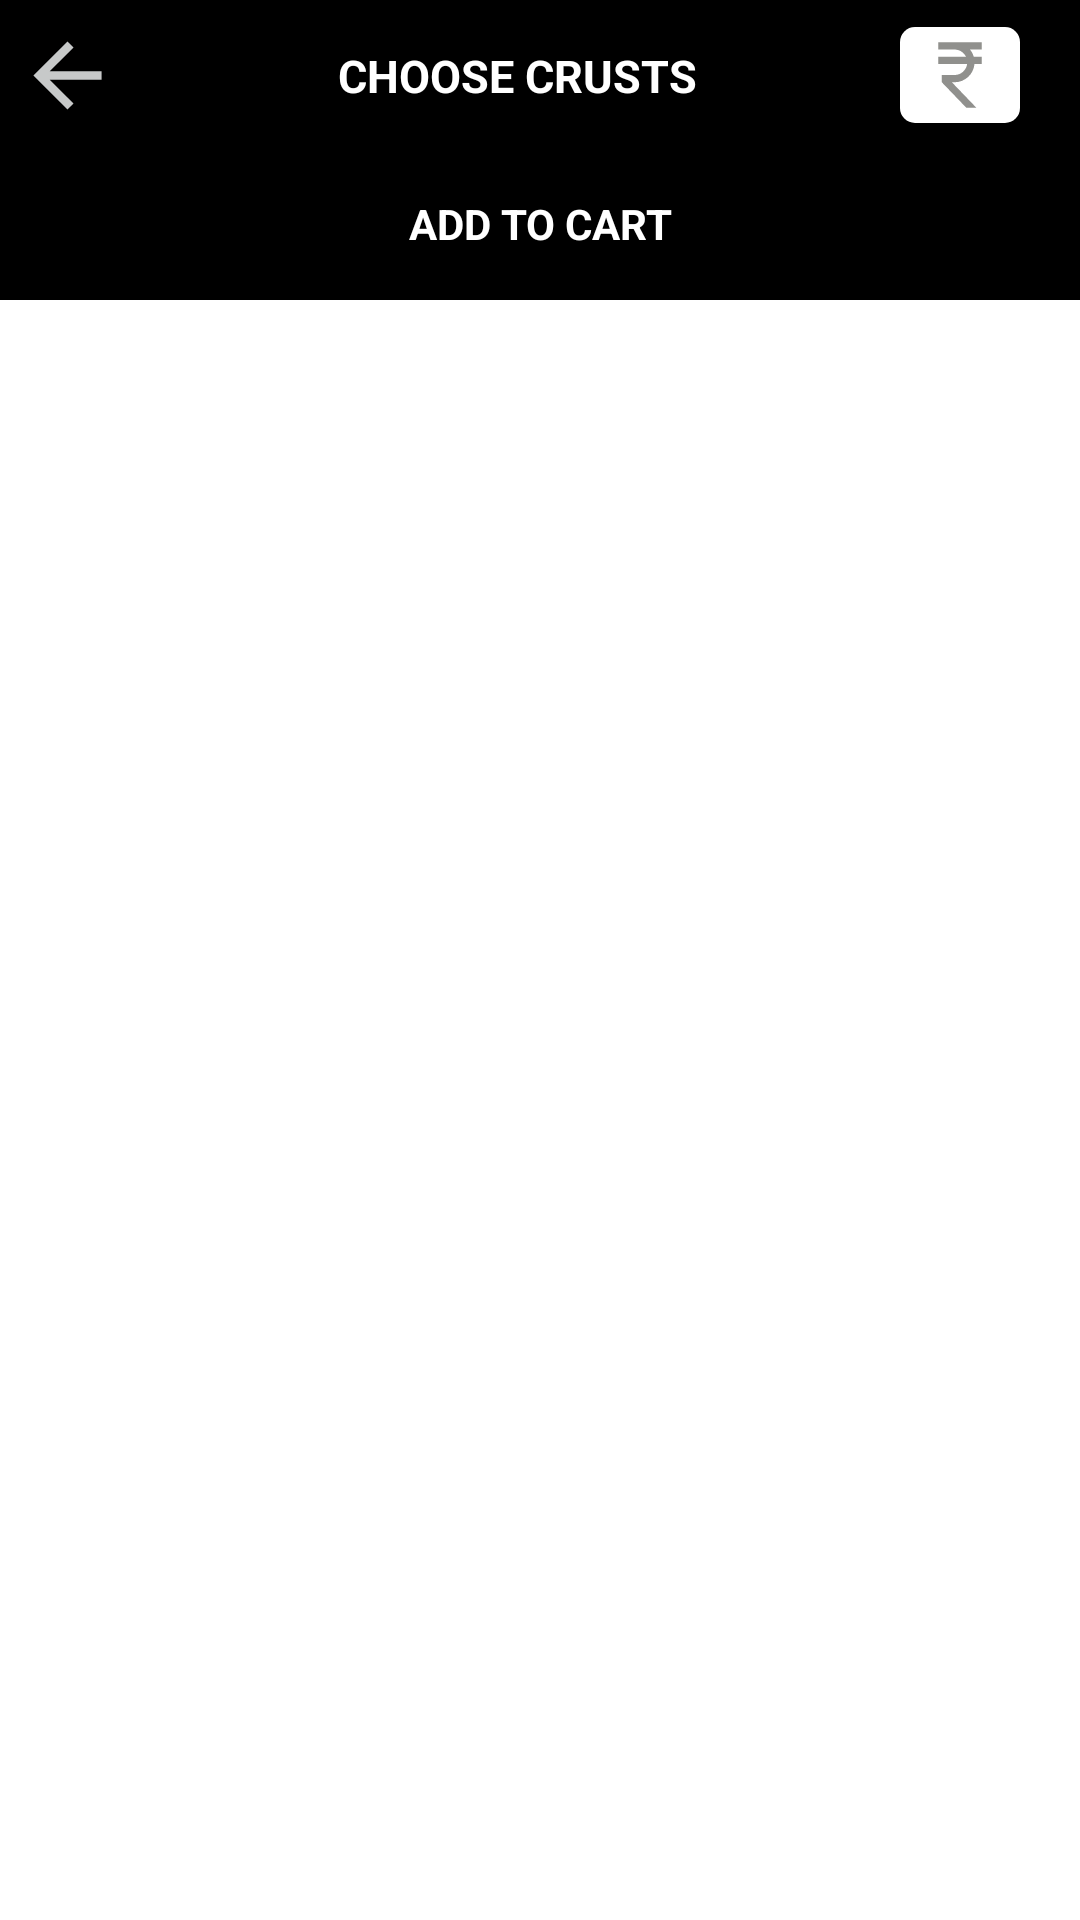

Named icons in this screenshot (1080x1920) and their centers, [x,y]:
back: [67,75]
